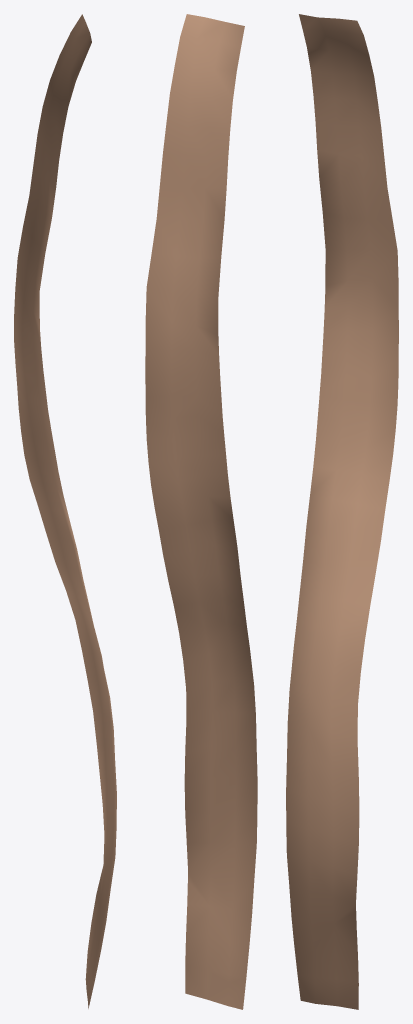
Rendered from vertebral-region-l.glb.
The picture shows the model from 3 angles, left to right: view 1: azimuth 90°, elevation 25°; view 2: azimuth 150°, elevation 25°; view 3: azimuth 330°, elevation 25°; orthographic projection. The views are drawn at different scales.
Visible parts, largest first — view 1: Vertebral region.l; view 2: Vertebral region.l; view 3: Vertebral region.l.
Boxes of the visible parts, <box> form: Vertebral region.l: <box>14,14,116,1008</box>; Vertebral region.l: <box>145,14,257,1009</box>; Vertebral region.l: <box>286,14,398,1009</box>.
Size of the model in its own units: 0.0322 by 0.4654 by 0.0447.
